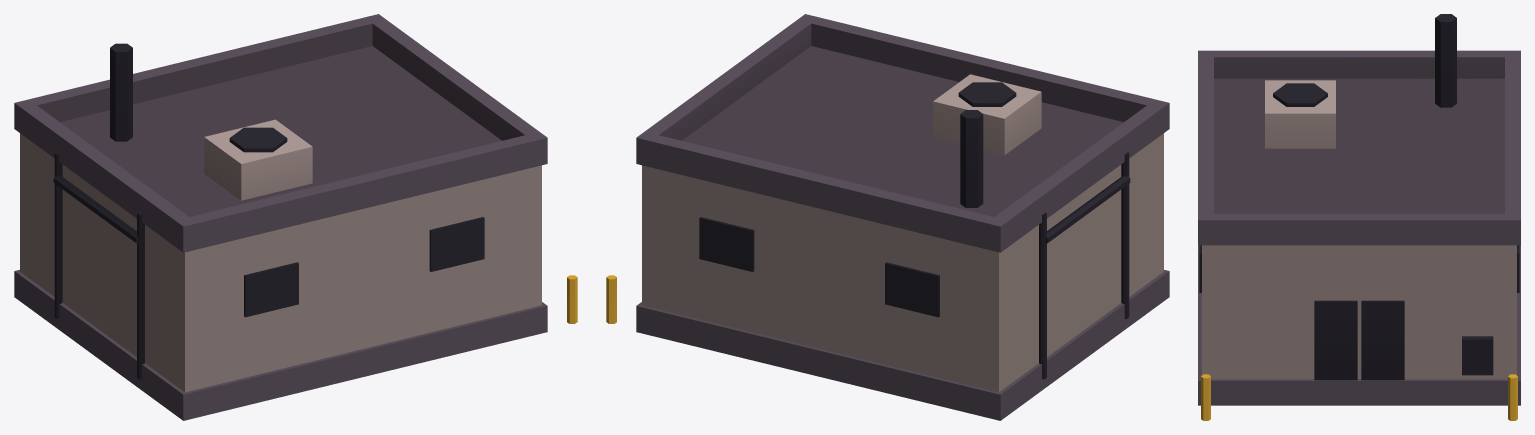
File: bld.cure-service-building.lod2.glb
3 renders of one model, left to right at view 1: azimuth 30°, elevation 25°; view 2: azimuth 150°, elevation 25°; view 3: azimuth 270°, elevation 25°, orthographic. The views are drawn at different scales.
Parts seen in each view (by area): view 1: body; view 2: body; view 3: body.
Boxes of the visible parts, bbox=[...] form: body: bbox=[14, 14, 577, 420]; body: bbox=[606, 14, 1169, 420]; body: bbox=[1198, 14, 1520, 420].
Bounding box in the file's own units: 11.23 × 7 × 8.2.
